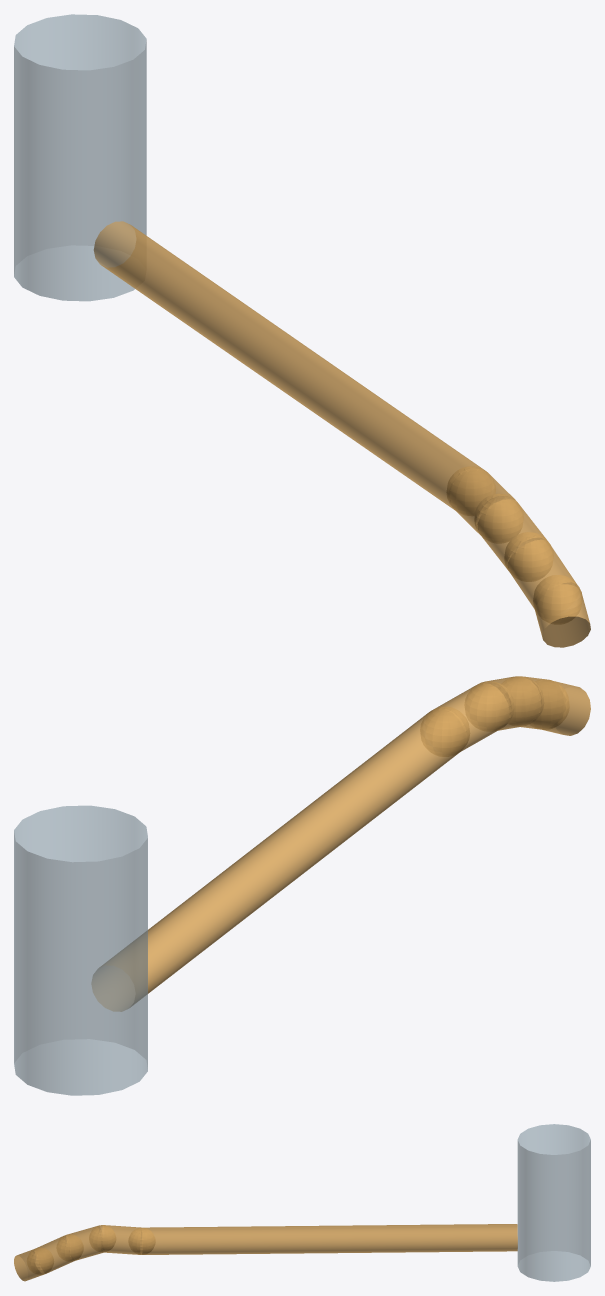
File: pipe_model (14).glb
3 views of the same model, one above another, from view 1: azimuth 30°, elevation 25°; view 2: azimuth 150°, elevation 25°; view 3: azimuth 270°, elevation 25° (orthographic). The views are drawn at different scales.
Parts seen in each view (by area): view 1: segment_0_A_B, segment_1_B_C, segment_5_F_G, segment_4_E_F, segment_3_D_E, segment_2_C_D, joint_E, joint_D, joint_F, joint_C; view 2: segment_0_A_B, segment_1_B_C, segment_2_C_D, joint_D, joint_C, segment_3_D_E, joint_E, segment_5_F_G, segment_4_E_F, joint_F; view 3: segment_0_A_B, segment_1_B_C, segment_2_C_D, segment_3_D_E, segment_4_E_F, segment_5_F_G, joint_E, joint_F, joint_C, joint_D.
Part boxes in pixels (box(x1,y1,x2,y2)): segment_0_A_B: box(14, 14, 146, 301); segment_1_B_C: box(93, 221, 484, 509); segment_5_F_G: box(534, 584, 590, 647); segment_4_E_F: box(507, 539, 576, 609); segment_3_D_E: box(477, 499, 546, 570); segment_2_C_D: box(449, 468, 515, 535); joint_E: box(504, 532, 553, 581); joint_D: box(474, 494, 523, 543); joint_F: box(533, 575, 582, 624); joint_C: box(446, 466, 495, 515); segment_0_A_B: box(14, 805, 147, 1095); segment_1_B_C: box(92, 708, 466, 1011); segment_2_C_D: box(431, 683, 509, 751); joint_D: box(464, 681, 514, 731); joint_C: box(420, 707, 469, 756); segment_3_D_E: box(487, 676, 541, 730); joint_E: box(502, 676, 543, 726); segment_5_F_G: box(542, 681, 590, 735); segment_4_E_F: box(521, 676, 566, 729); joint_F: box(530, 680, 569, 729); segment_0_A_B: box(517, 1124, 590, 1281); segment_1_B_C: box(142, 1224, 517, 1254); segment_2_C_D: box(101, 1225, 141, 1254); segment_3_D_E: box(66, 1226, 104, 1260); segment_4_E_F: box(34, 1236, 74, 1273); segment_5_F_G: box(14, 1249, 43, 1281); joint_E: box(56, 1234, 83, 1261); joint_F: box(27, 1248, 53, 1274); joint_C: box(128, 1227, 155, 1254); joint_D: box(89, 1225, 115, 1251).
Size of the model in its own units: 0.4 by 0.8395 by 3.14.
